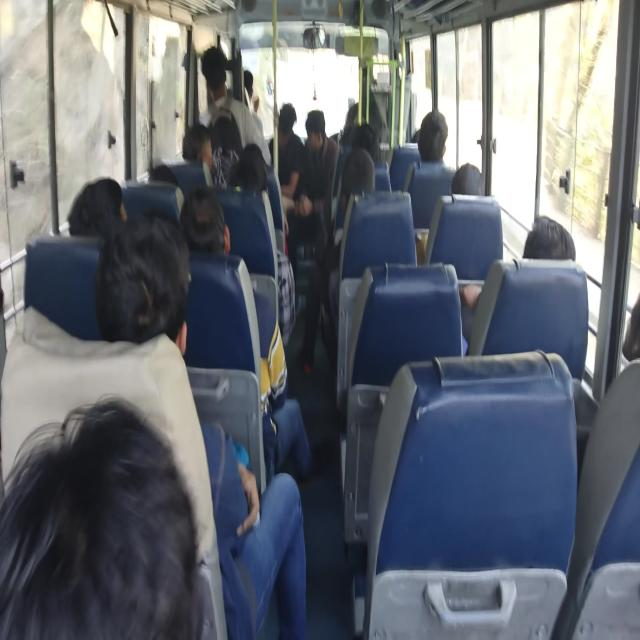person: (95, 212, 307, 638), (1, 395, 204, 639), (179, 186, 312, 480), (459, 214, 576, 354), (290, 109, 339, 373), (200, 46, 271, 166), (404, 109, 456, 257), (334, 147, 376, 244), (66, 176, 127, 238), (268, 102, 304, 207), (179, 186, 230, 256), (522, 214, 576, 260), (417, 109, 448, 166), (243, 69, 263, 137), (451, 162, 484, 196)
